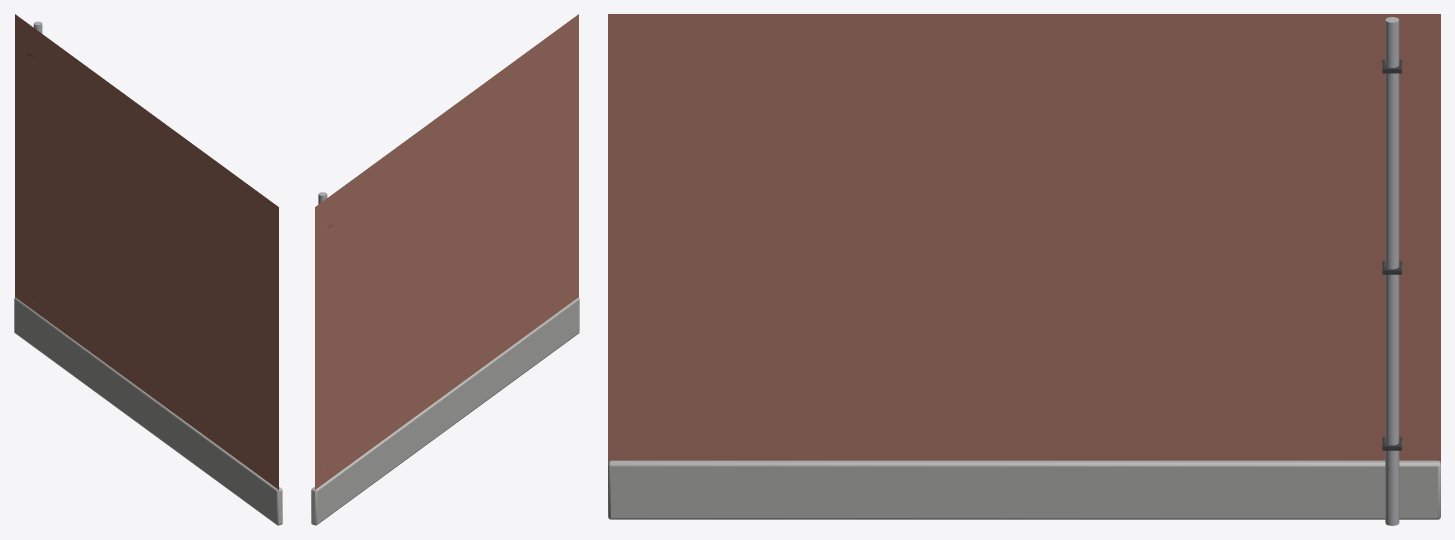
Rendered from side_ground_6.glb.
3 renders of one model, left to right at view 1: azimuth 30°, elevation 25°; view 2: azimuth 150°, elevation 25°; view 3: azimuth 270°, elevation 25°, orthographic. The views are drawn at different scales.
Parts seen in each view (by area): view 1: side_ground_6; view 2: side_ground_6; view 3: side_ground_6.
Boxes of the visible parts, <box> form: side_ground_6: <box>14,14,282,525</box>; side_ground_6: <box>311,14,579,525</box>; side_ground_6: <box>608,14,1440,525</box>.
Size of the model in its own units: 0.18 by 4 by 6.
